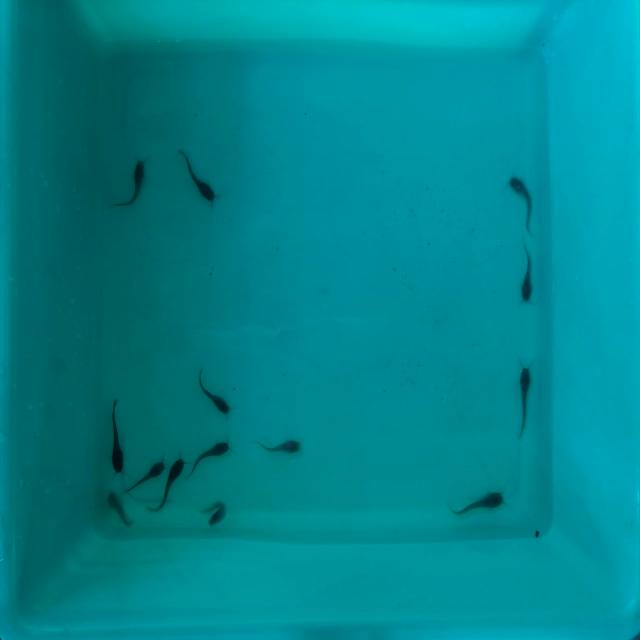lele: (176, 150, 217, 206), (150, 460, 188, 520), (109, 156, 148, 214), (184, 437, 231, 480), (506, 174, 540, 232), (195, 368, 233, 417), (118, 466, 166, 500), (452, 490, 506, 516), (102, 488, 132, 528), (516, 366, 532, 440), (111, 398, 123, 476), (520, 245, 533, 306), (254, 437, 299, 453), (207, 501, 227, 527)
